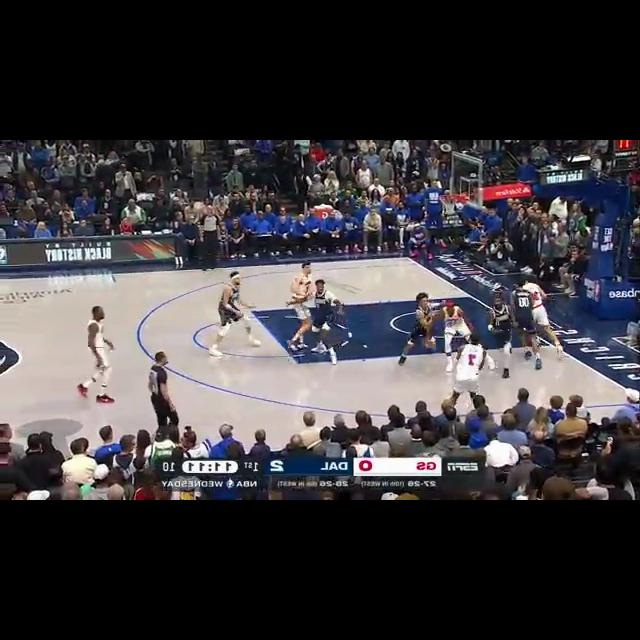Team-1-Player: (286, 276, 348, 362), (208, 268, 256, 364), (500, 280, 548, 370), (399, 290, 449, 352), (487, 296, 518, 349)
Team-2-Player: (74, 302, 118, 408), (444, 331, 496, 407), (424, 298, 482, 352), (288, 262, 320, 322), (522, 272, 548, 310)
